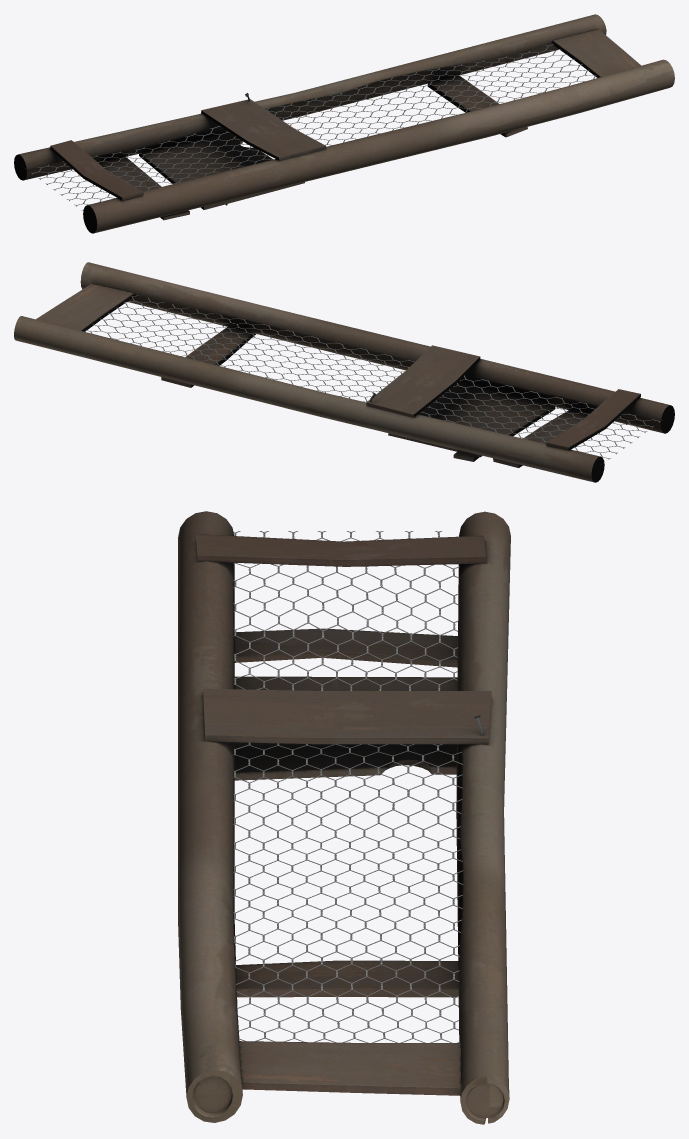
Rendered from props_coalmines_wood_fence_64.glb.
The picture shows the model from 3 angles, top to bottom: view 1: azimuth 30°, elevation 25°; view 2: azimuth 150°, elevation 25°; view 3: azimuth 270°, elevation 25°; orthographic projection. The views are drawn at different scales.
Visible parts, largest first — view 1: models/props_coalmines/wood_fence_64; view 2: models/props_coalmines/wood_fence_64; view 3: models/props_coalmines/wood_fence_64.
Part boxes in pixels (x1,y1,x2,y2): models/props_coalmines/wood_fence_64: (14, 14, 674, 233); models/props_coalmines/wood_fence_64: (14, 262, 674, 482); models/props_coalmines/wood_fence_64: (178, 511, 510, 1124).
Bounding box in the file's own units: 268 × 21.58 × 66.66.
2 materials, 2 textured.
